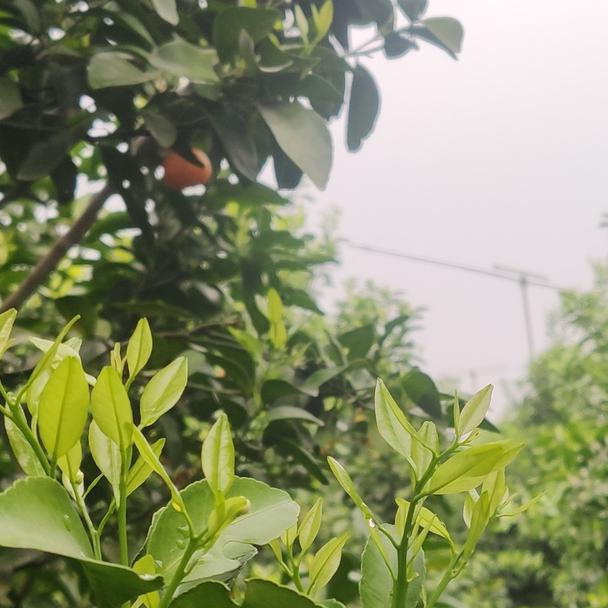shoot: (347, 392, 506, 596), (101, 318, 191, 512), (4, 307, 84, 478), (190, 419, 251, 540)
